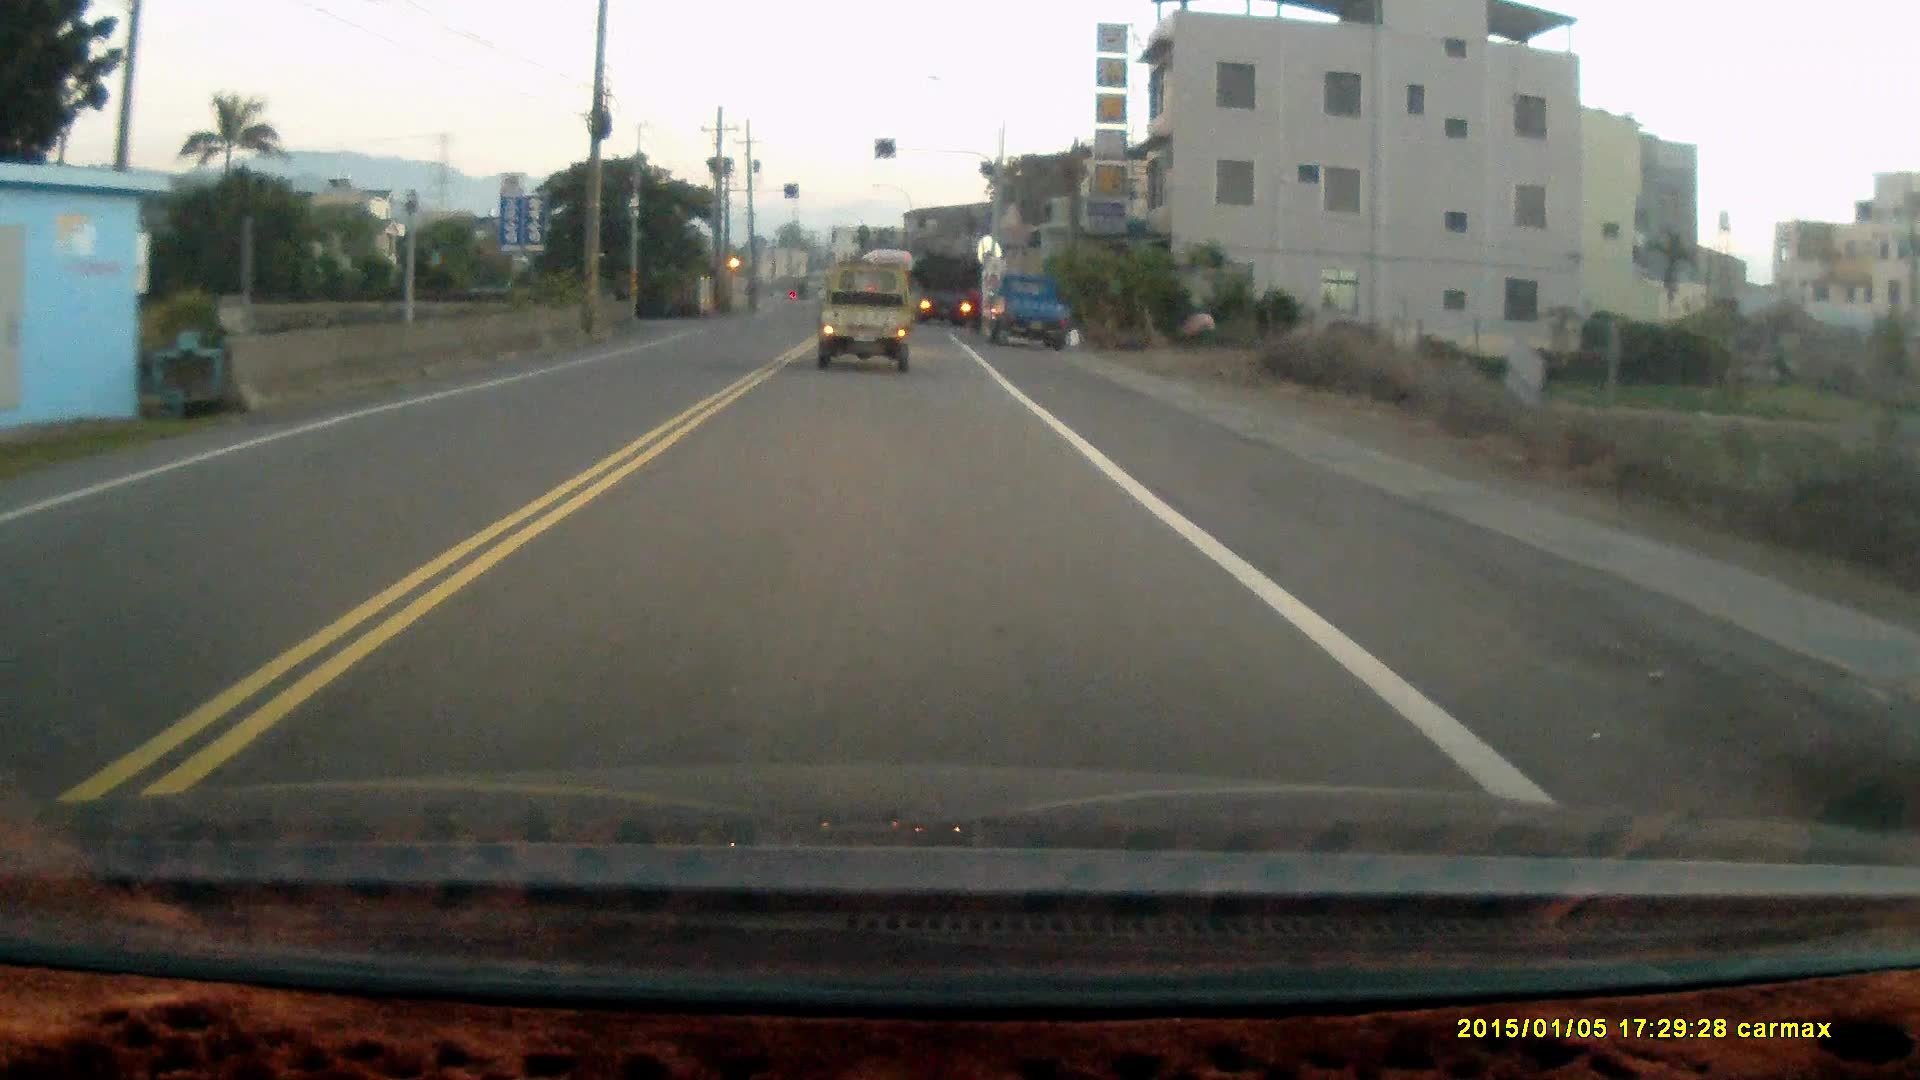vehicle: (814, 265, 916, 382), (982, 272, 1084, 345), (914, 255, 985, 324)
